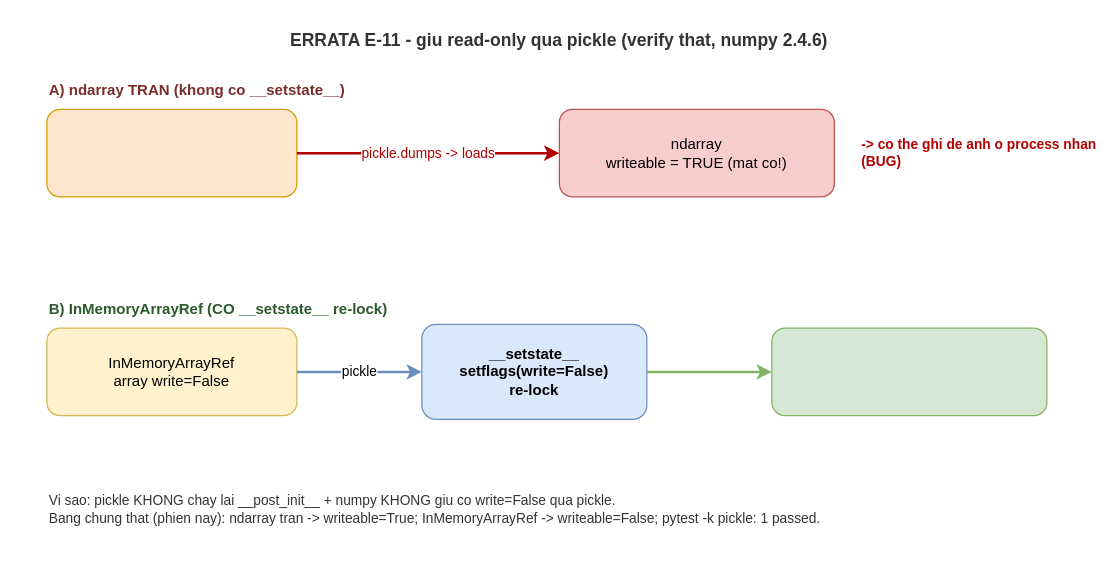
Image size: 1118x568. Some labels were removed from this diagram. Here are the shapes that lost their labels. From the top down, the centre of each, then its label:
[171,152]: ndarray write=False (read-only)
[909,371]: InMemoryArrayRef writeable = FALSE (giu duoc)
